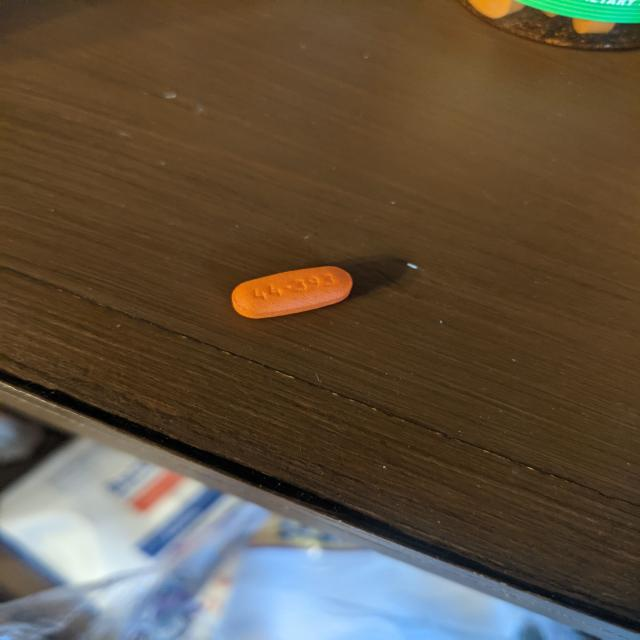non-organic waste: (230, 264, 354, 320)
